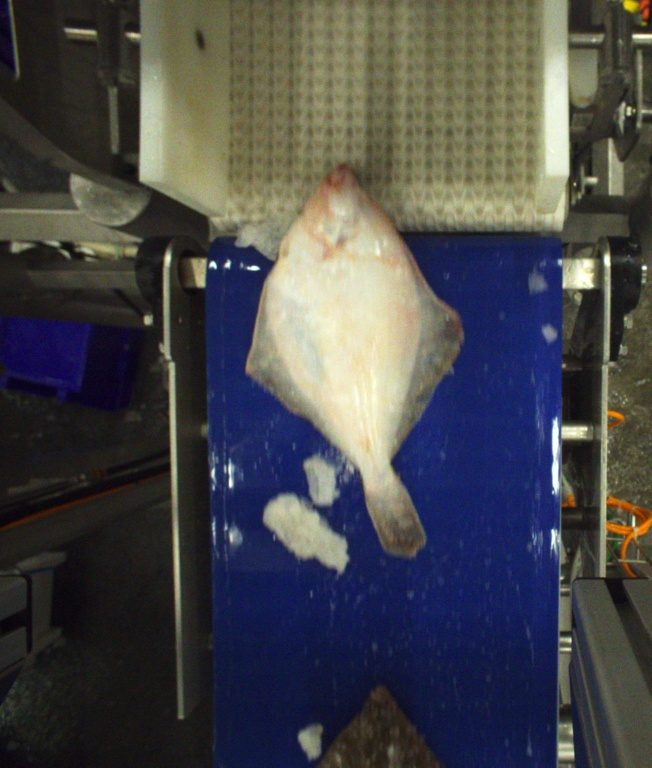PLE: (245, 164, 464, 557)
